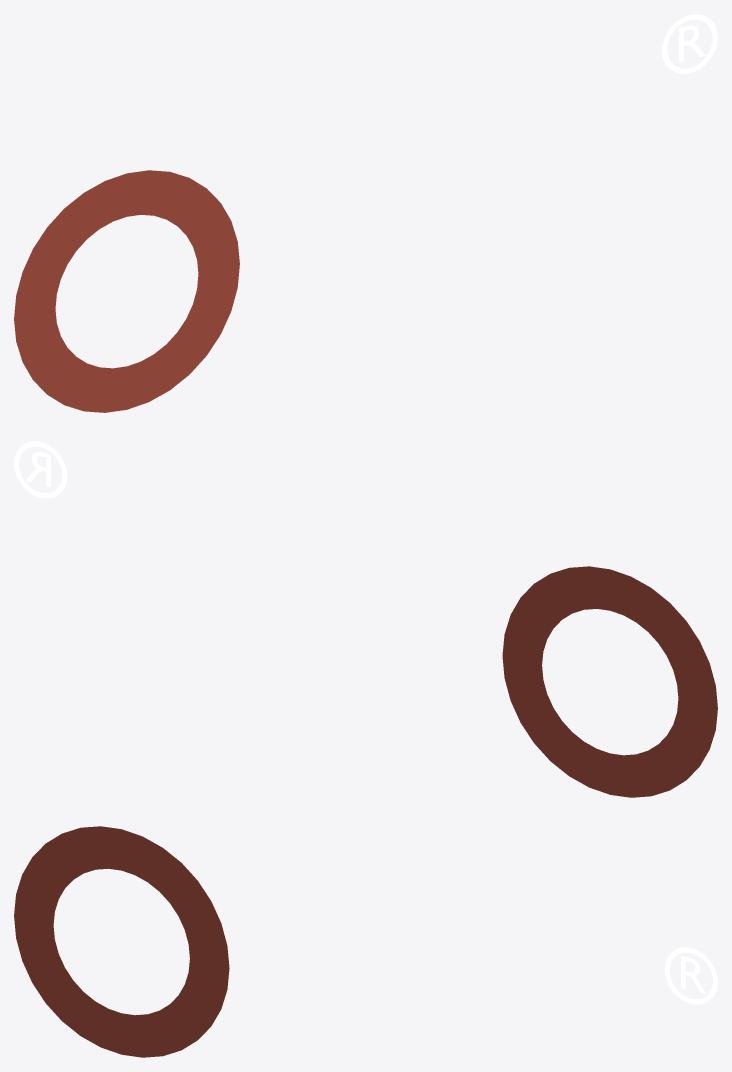
The model's file is arova-2.glb.
3 renders of one model, top to bottom at view 1: azimuth 30°, elevation 25°; view 2: azimuth 150°, elevation 25°; view 3: azimuth 330°, elevation 25°, orthographic. The views are drawn at different scales.
Visible parts, largest first — view 1: o, Registered; view 2: o, Registered; view 3: o, Registered.
Part boxes in pixels (bbox=[...]): o: bbox=[14, 170, 239, 412]; Registered: bbox=[662, 14, 717, 73]; o: bbox=[502, 566, 717, 797]; Registered: bbox=[14, 441, 67, 498]; o: bbox=[14, 826, 229, 1057]; Registered: bbox=[664, 947, 717, 1004].
Size of the model in its own units: 6.38 by 2.04 by 0.2611.
